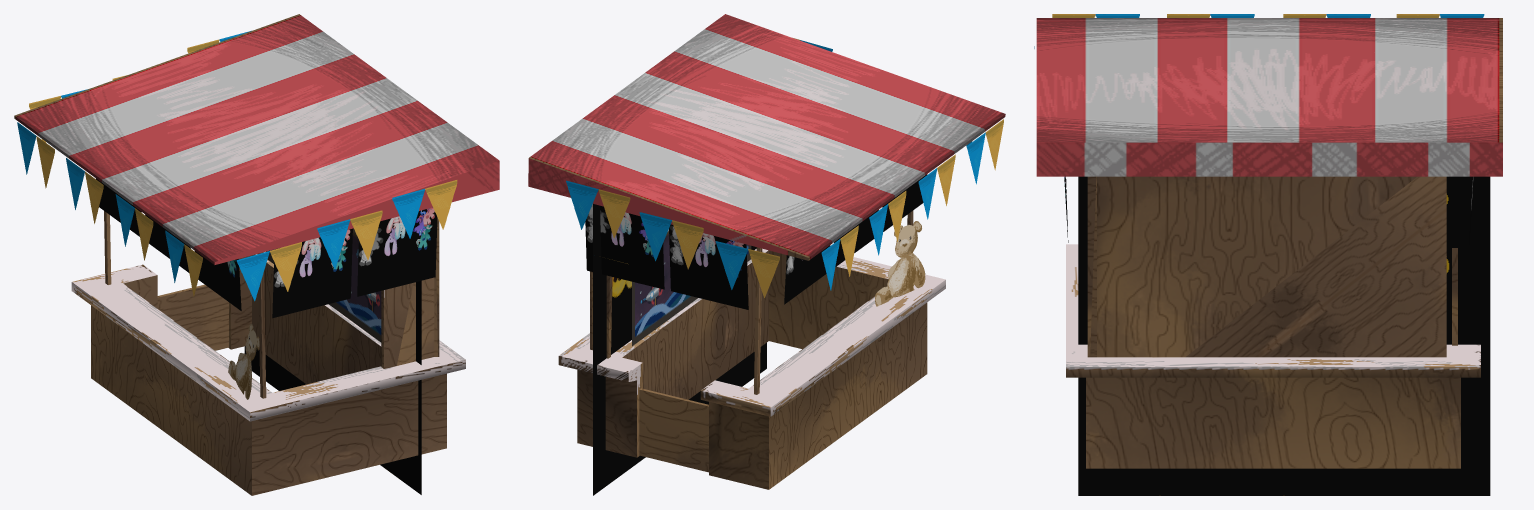
Rendered from stall_game.fbx.
3 views of the same model, side by side, from view 1: azimuth 30°, elevation 25°; view 2: azimuth 150°, elevation 25°; view 3: azimuth 270°, elevation 25° (orthographic). The views are drawn at different scales.
Visible parts, largest first — view 1: stall_pCube6, pPlane30, stall_banner, pPlane29, pPlane28, pPlane19; view 2: stall_pCube6, pPlane30, stall_banner, pPlane29, pPlane28, pPlane19; view 3: stall_pCube6, pPlane29, stall_banner.
Part boxes in pixels (x1=…): stall_pCube6: x1=14, y1=14, x2=499, y2=495; pPlane30: x1=96, y1=178, x2=437, y2=318; stall_banner: x1=17, y1=30, x2=457, y2=301; pPlane29: x1=244, y1=281, x2=421, y2=494; pPlane28: x1=266, y1=228, x2=381, y2=342; pPlane19: x1=228, y1=324, x2=259, y2=399; stall_pCube6: x1=528, y1=14, x2=1005, y2=489; pPlane30: x1=585, y1=174, x2=927, y2=309; stall_banner: x1=566, y1=38, x2=1003, y2=297; pPlane29: x1=593, y1=204, x2=766, y2=495; pPlane28: x1=632, y1=229, x2=751, y2=346; pPlane19: x1=875, y1=221, x2=925, y2=306; stall_pCube6: x1=1036, y1=18, x2=1502, y2=468; pPlane29: x1=1078, y1=176, x2=1490, y2=495; stall_banner: x1=1034, y1=14, x2=1484, y2=48.
Size of the model in its own units: 51.01 by 55.94 by 63.53.
